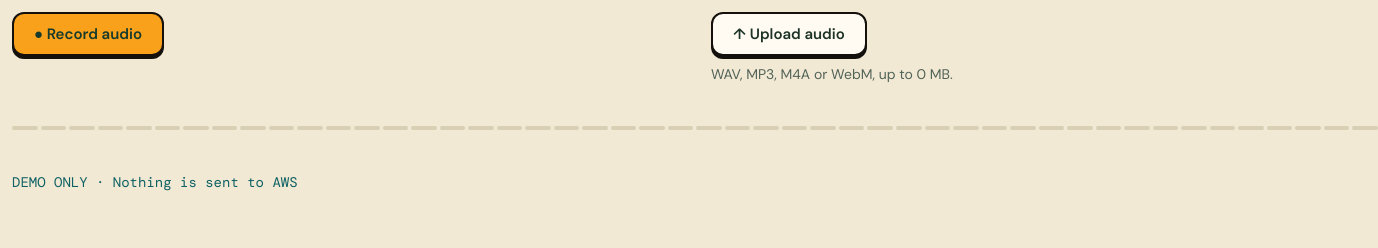
it: RecorderUploader edge cases › explains when the microphone becomes unavailable before recording starts
Step 1. Click the button "● Record audio" → {"x": 88, "y": 34}, box [12,12,164,56]
Wait 3000 ms
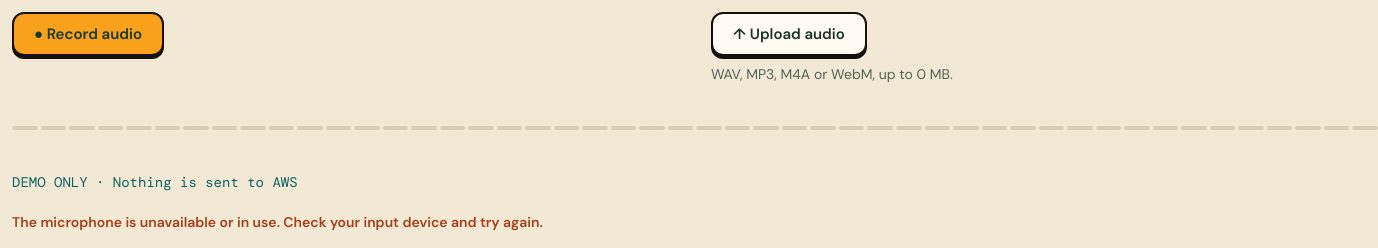
Result: the message shows "microphone is unavailable or in use" at [12,213,543,231]
